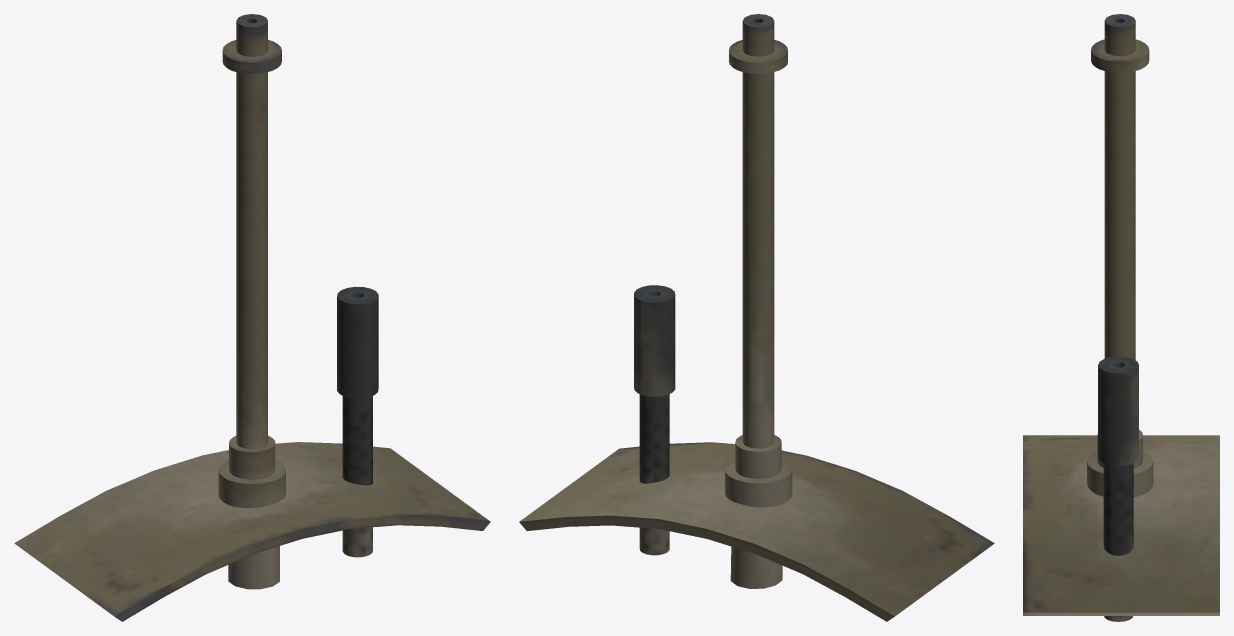
File: Gun_01.glb
3 renders of one model, left to right at view 1: azimuth 30°, elevation 25°; view 2: azimuth 150°, elevation 25°; view 3: azimuth 270°, elevation 25°, orthographic.
Visible parts, largest first — view 1: set_0_group_0; view 2: set_0_group_0; view 3: set_0_group_0.
Part boxes in pixels (left/top/right/bottom): set_0_group_0: left=14, top=14, right=490, bottom=621; set_0_group_0: left=519, top=14, right=994, bottom=621; set_0_group_0: left=1023, top=14, right=1219, bottom=621.
Bounding box in the file's own units: 0.5565 × 0.7896 × 0.2568.
1 material, 1 textured.
